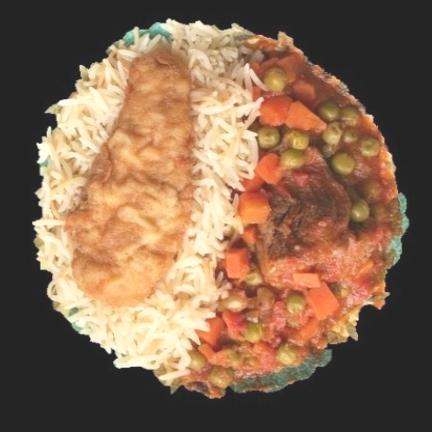chicken: (66, 50, 193, 307)
rice: (33, 21, 264, 384)
